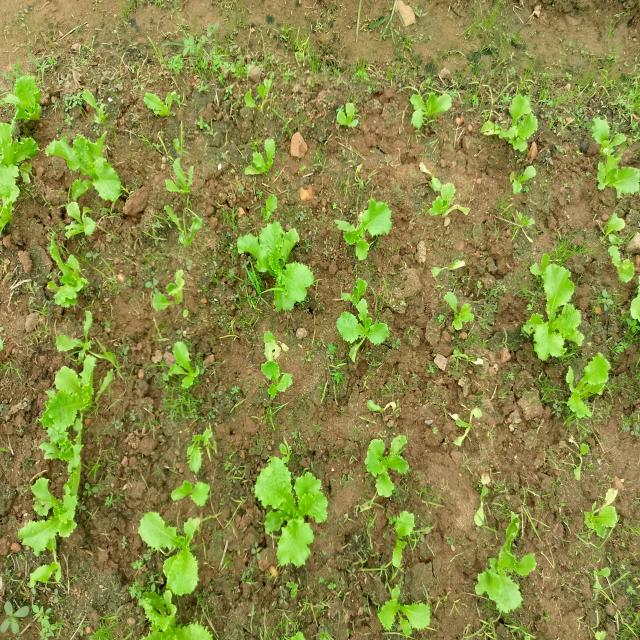Lettuce: (475, 514, 551, 628), (6, 446, 82, 553), (246, 456, 322, 556), (23, 376, 110, 461), (569, 103, 640, 202), (530, 262, 590, 374), (319, 286, 399, 362), (55, 120, 122, 200), (39, 318, 115, 385), (39, 222, 96, 310), (574, 479, 632, 564), (131, 578, 211, 638), (333, 195, 397, 266), (438, 262, 484, 359), (137, 511, 207, 573), (236, 219, 305, 280), (360, 431, 416, 502), (248, 339, 301, 412), (566, 337, 613, 419), (162, 159, 207, 237), (374, 588, 438, 638), (260, 259, 318, 312), (163, 340, 214, 397), (487, 111, 546, 160), (152, 254, 187, 326), (320, 82, 362, 140), (3, 76, 51, 126), (428, 171, 468, 229), (404, 88, 455, 132), (452, 396, 487, 460), (0, 125, 38, 181), (241, 65, 277, 115), (167, 476, 216, 512), (0, 180, 27, 239), (142, 89, 184, 121), (250, 135, 282, 176)
